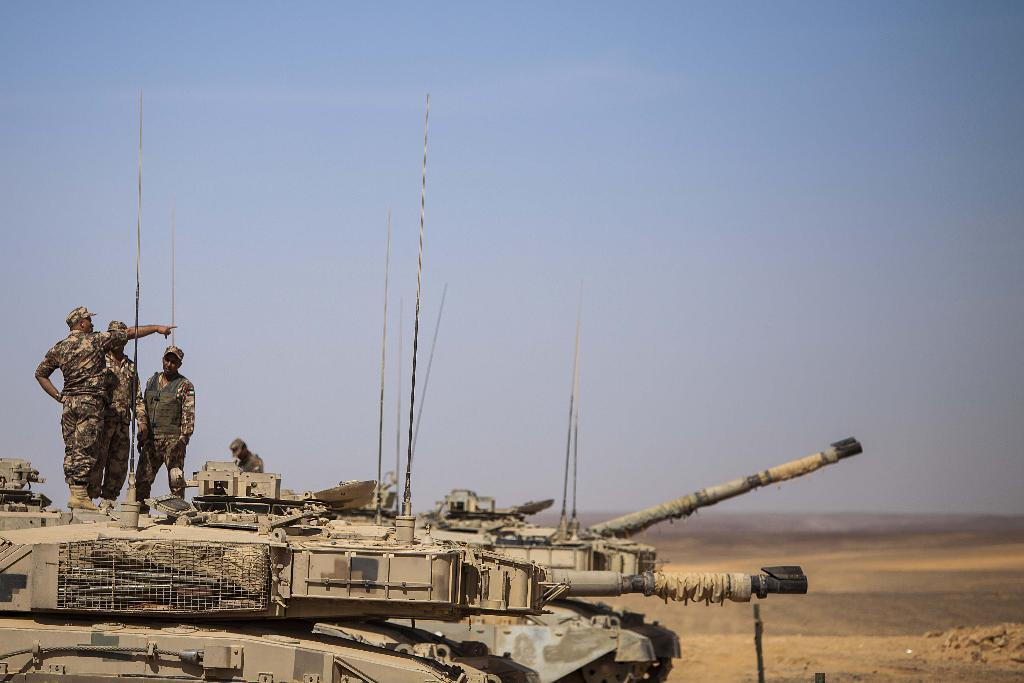Tank: (0, 81, 810, 682), (2, 276, 865, 675)
